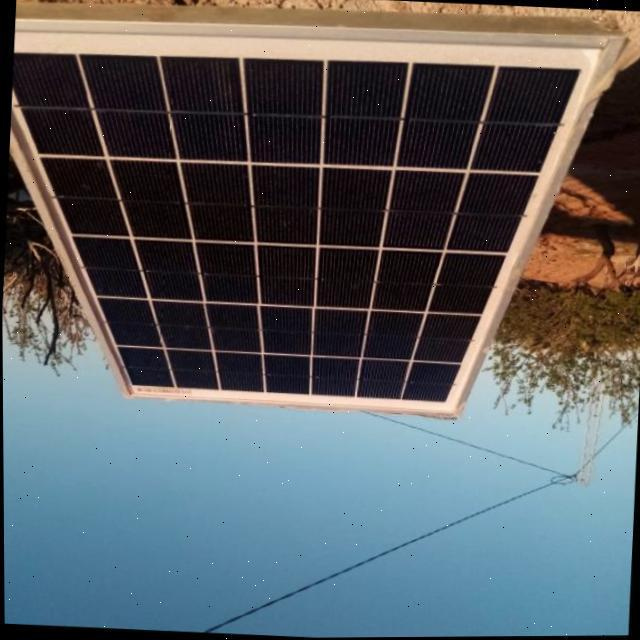Normal Solar Panel: (1, 6, 626, 428)
